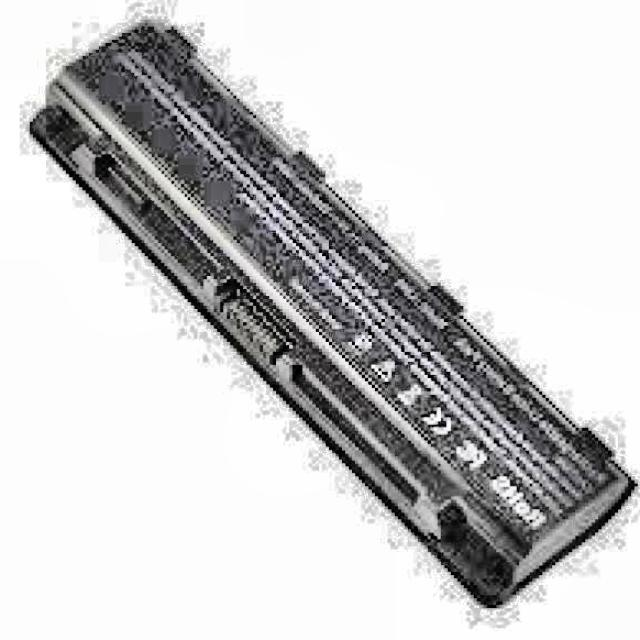battery: (33, 20, 635, 602)
